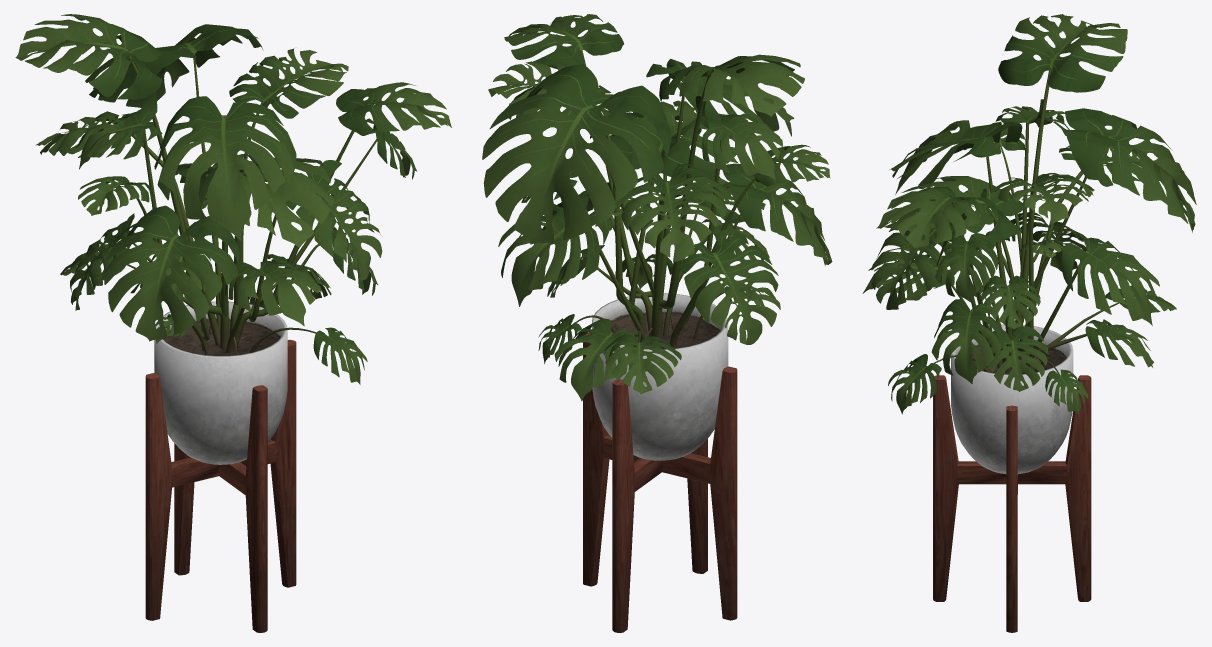
File: office-plantA.glb
The picture shows the model from 3 angles, left to right: view 1: azimuth 30°, elevation 25°; view 2: azimuth 150°, elevation 25°; view 3: azimuth 270°, elevation 25°; orthographic projection. The views are drawn at different scales.
Visible parts, largest first — view 1: Leaves_Mat.1_0, Stand_Mat_0, root_HP_1_Mat.2_0; view 2: Leaves_Mat.1_0, Stand_Mat_0, root_HP_1_Mat.2_0; view 3: Leaves_Mat.1_0, Stand_Mat_0, root_HP_1_Mat.2_0.
Boxes of the visible parts, bbox=[...] form: Leaves_Mat.1_0: bbox=[15, 14, 451, 384]; Stand_Mat_0: bbox=[145, 301, 296, 632]; root_HP_1_Mat.2_0: bbox=[124, 53, 376, 355]; Leaves_Mat.1_0: bbox=[482, 14, 832, 401]; Stand_Mat_0: bbox=[583, 293, 737, 632]; root_HP_1_Mat.2_0: bbox=[559, 50, 755, 346]; Leaves_Mat.1_0: bbox=[862, 14, 1196, 414]; Stand_Mat_0: bbox=[933, 324, 1091, 632]; root_HP_1_Mat.2_0: bbox=[933, 68, 1119, 375].
Size of the model in its own units: 1.01 by 1.58 by 0.9162.
3 materials, 3 textured.
